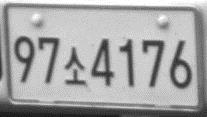1: (118, 37, 135, 87)
4: (90, 37, 114, 85)
6: (169, 39, 192, 89)
7: (142, 39, 164, 88), (38, 36, 59, 83)
9: (13, 34, 34, 82)
소: (63, 46, 86, 85)
